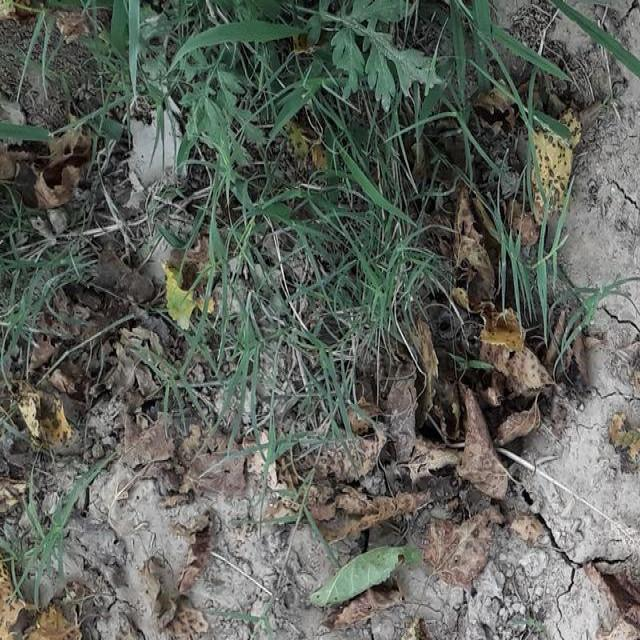weed: (174, 0, 304, 172), (307, 6, 456, 107), (302, 172, 414, 285)
